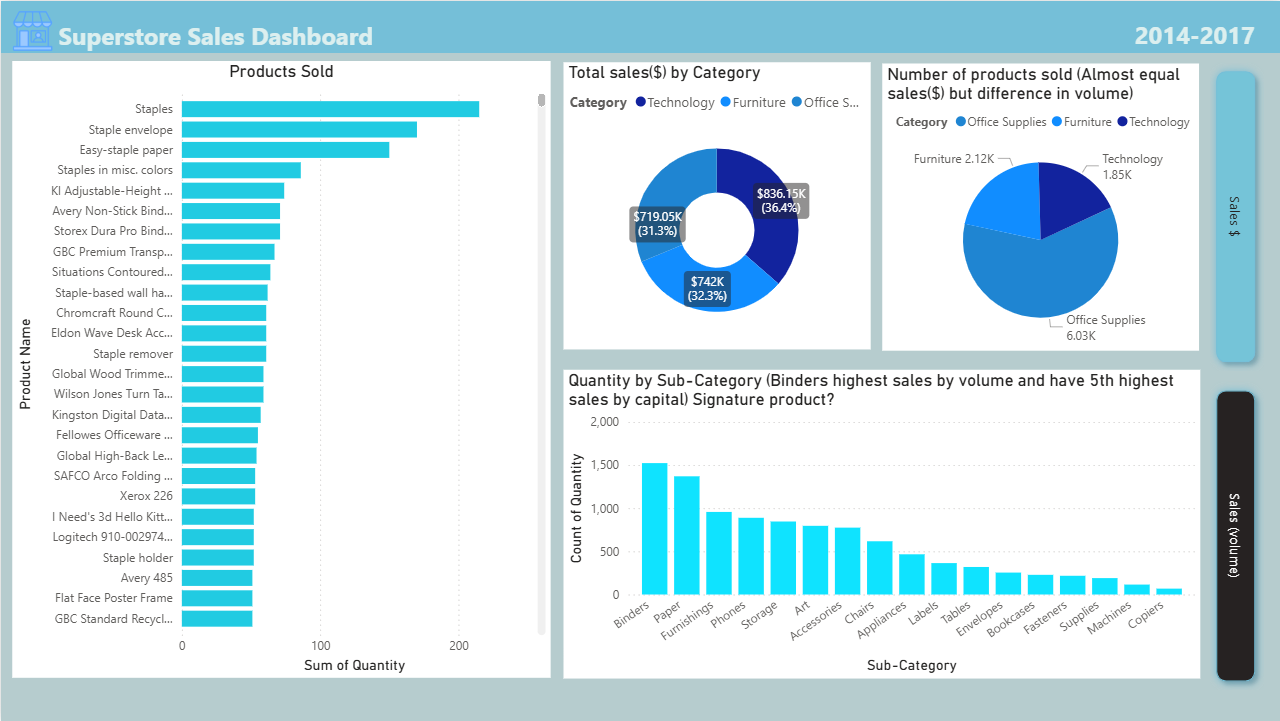

What the dashboard file says about the page in this screenshot:
{"tool":"powerbi","page":{"name":"Sales (volume)","canvas":[1280,720],"ordinal":1},"visuals":[{"type":"pieChart","title":"Number of products sold (Almost equal sales($) but difference in volume)","fields":{"Y":["CountNonNull(Sample - Superstore.Quantity)"],"Category":["Sample - Superstore.Category"]},"box":[881.4,62.9,317.1,287.1],"z":0},{"type":"columnChart","title":"Quantity by Sub-Category (Binders highest sales by volume and have 5th highest sales by capital) Signature product?","fields":{"Category":["Sample - Superstore.Sub-Category"],"Y":["CountNonNull(Sample - Superstore.Quantity)"]},"box":[562.6,369.1,636.7,308.7],"z":1000},{"type":"clusteredBarChart","title":"Products Sold","fields":{"Y":["Sum(Sample - Superstore.Quantity)"],"Category":["Sample - Superstore.Product Name"]},"box":[11.4,60,538.6,617.1],"z":2000},{"type":"pageNavigator","box":[1206,61,57.6,629.8],"z":3000},{"type":"shape","box":[0,0,1280.3,52],"z":4000},{"type":"textbox","box":[52.1,13.7,343.1,48],"z":5000},{"type":"image","box":[11,0,41.2,60.4],"z":6000},{"type":"donutChart","title":"Total sales($) by Category","fields":{"Category":["Sample - Superstore.Category"],"Y":["Sample - Superstore.Total sales"]},"box":[562.9,61.4,307.1,287.1],"z":7000},{"type":"textbox","box":[1129.3,12.3,138.6,48],"z":8000}]}

Visuals, with their boxes in screenshot pixels (x1, y1, x2, y2), scaled from the page's 1280x720 canvas onto the 1280x721 screenshot:
"Number of products sold (Almost equal sales($) but difference in volume)" pieChart: [881, 63, 1198, 350]
"Quantity by Sub-Category (Binders highest sales by volume and have 5th highest sales by capital) Signature product?" columnChart: [563, 370, 1199, 679]
"Products Sold" clusteredBarChart: [11, 60, 550, 678]
pageNavigator: [1206, 61, 1264, 692]
shape: [0, 0, 1279, 52]
textbox: [52, 14, 395, 62]
image: [11, 0, 52, 60]
"Total sales($) by Category" donutChart: [563, 61, 870, 349]
textbox: [1129, 12, 1268, 60]
